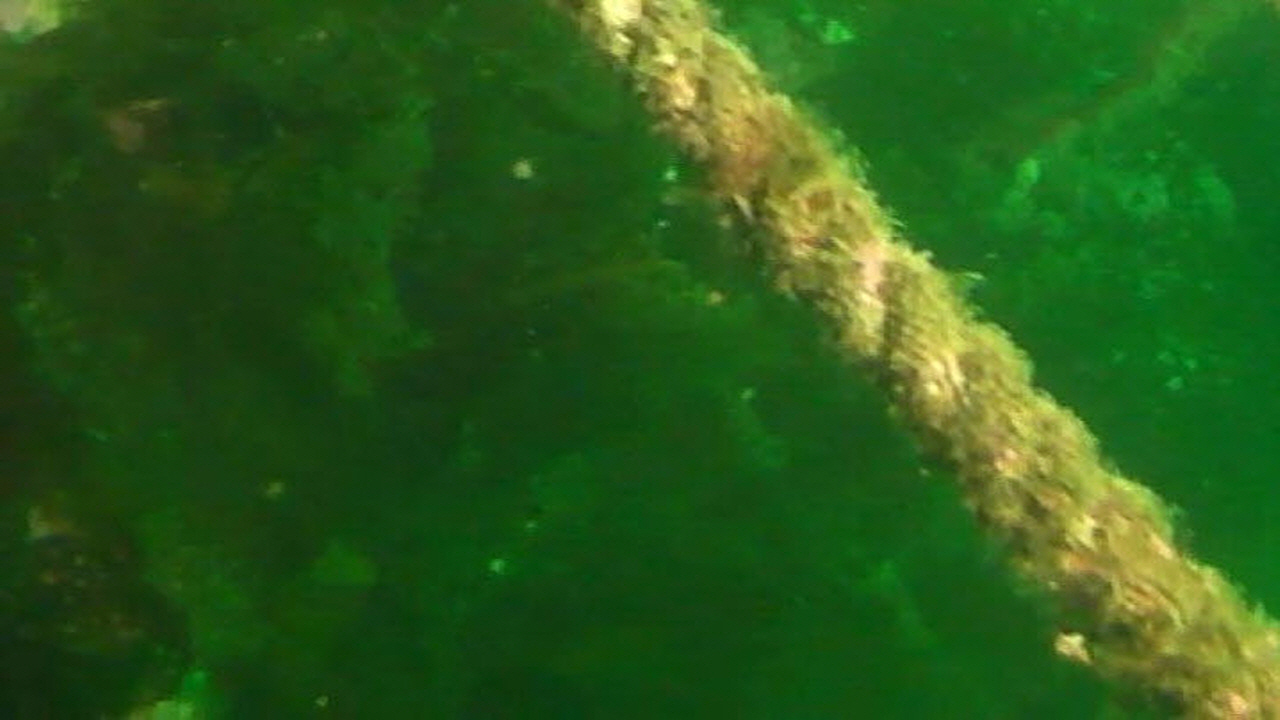rope: (536, 1, 1280, 719)
